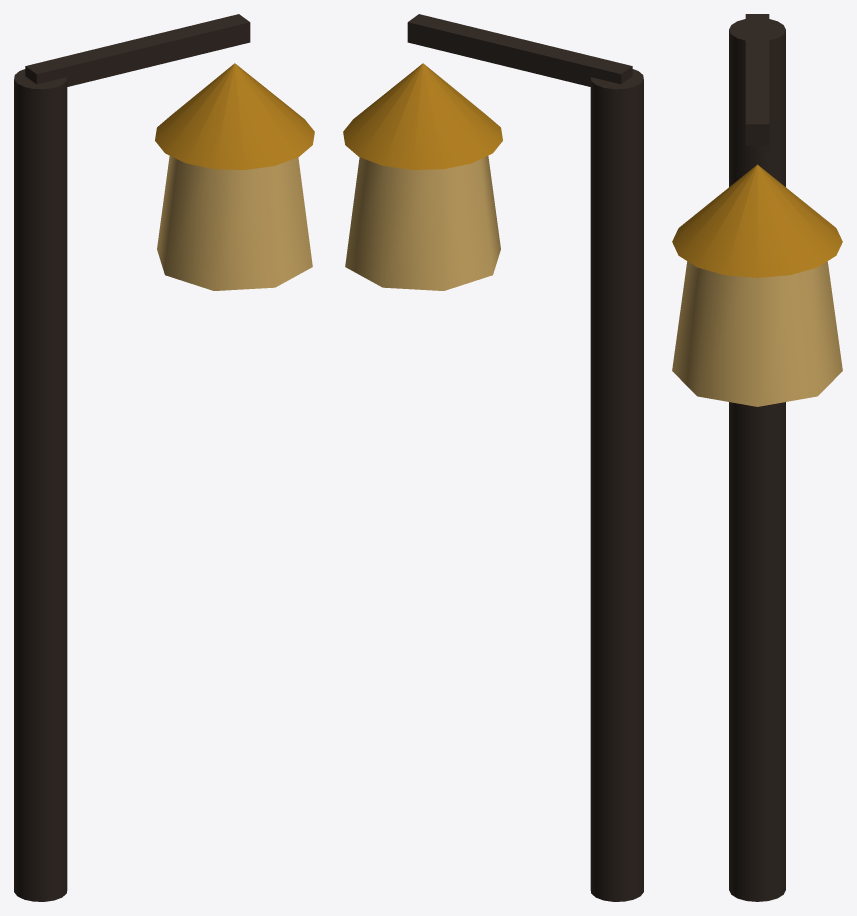
File: lantern.glb
3 renders of one model, left to right at view 1: azimuth 30°, elevation 25°; view 2: azimuth 150°, elevation 25°; view 3: azimuth 270°, elevation 25°, orthographic. The views are drawn at different scales.
Parts seen in each view (by area): view 1: farm_lantern; view 2: farm_lantern; view 3: farm_lantern.
Boxes of the visible parts, box(x1,y1,x2,y2) form: farm_lantern: box(14, 14, 314, 901); farm_lantern: box(343, 14, 643, 901); farm_lantern: box(672, 14, 842, 901).
Bounding box in the file's own units: 0.74 × 2.03 × 0.36.
